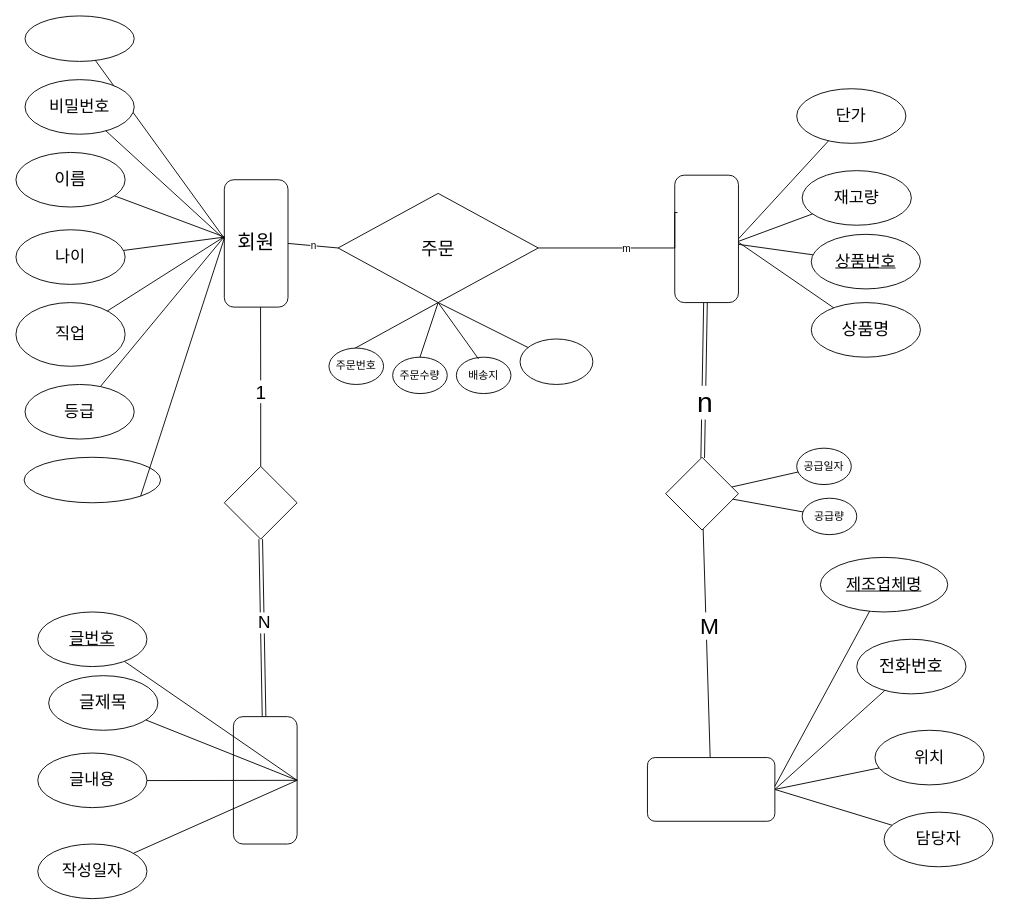
The diagram is 1009 pixels wide and 915 high, and some of its shapes have lost their labels. Here are the shapes that lost their labels. From the top down, the box of each, then its label:
(24, 15, 134, 61): 회원아이디
(674, 174, 738, 303): 상품
(519, 338, 593, 384): 주문일자
(23, 456, 161, 503): 적립금
(665, 456, 738, 530): 공급
(223, 465, 297, 539): 작성
(233, 716, 297, 844): 게시글
(647, 757, 775, 821): 제조업체
